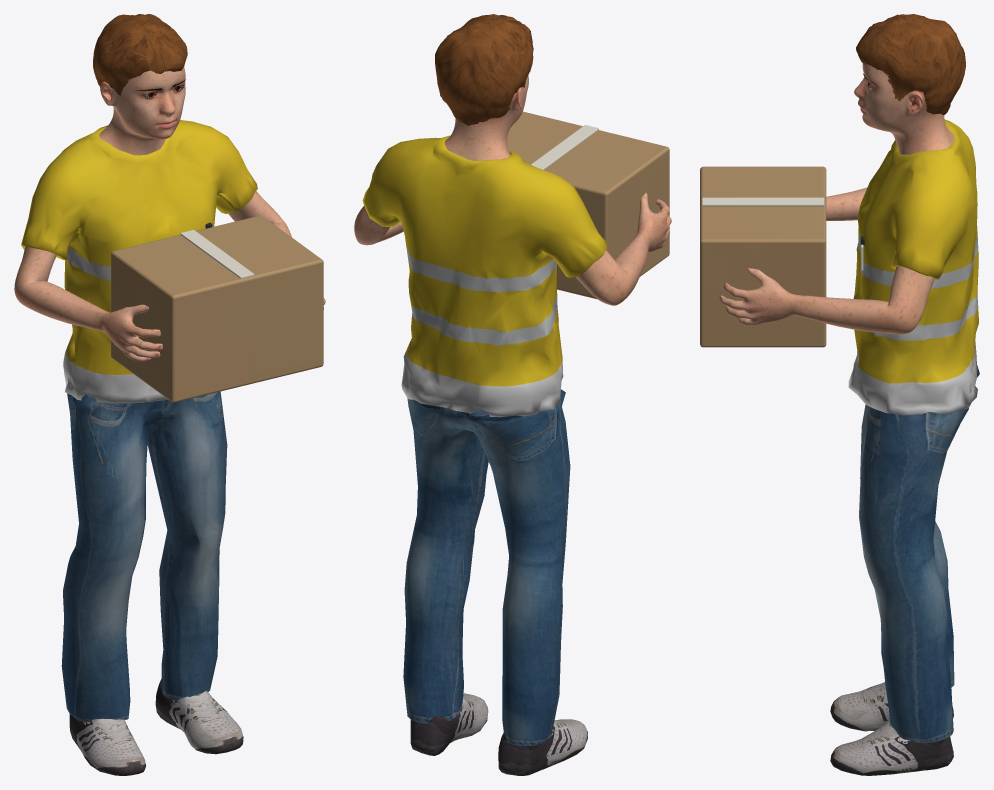
Rendered from premium-courier-owen.glb.
3 renders of one model, left to right at view 1: azimuth 30°, elevation 25°; view 2: azimuth 150°, elevation 25°; view 3: azimuth 270°, elevation 25°, orthographic.
Visible parts, largest first — view 1: male_casualsuit06, Small cardboard parcel, Owen | anatomical body, shoes05, short02, Parcel paper seam; view 2: male_casualsuit06, Small cardboard parcel, short02, Owen | anatomical body, shoes05, Parcel paper seam; view 3: male_casualsuit06, Small cardboard parcel, Owen | anatomical body, short02, shoes05, Parcel paper seam.
Boxes of the visible parts, x1,y1,x2,y2 form: male_casualsuit06: (21, 120, 257, 721); Small cardboard parcel: (111, 215, 323, 402); Owen | anatomical body: (14, 66, 325, 361); shoes05: (69, 679, 243, 775); short02: (93, 14, 187, 95); Parcel paper seam: (180, 230, 254, 278); male_casualsuit06: (362, 135, 607, 746); Small cardboard parcel: (507, 111, 669, 299); short02: (435, 14, 533, 125); Owen | anatomical body: (354, 74, 671, 305); shoes05: (410, 693, 587, 775); Parcel paper seam: (531, 125, 598, 169); male_casualsuit06: (848, 119, 979, 742); Small cardboard parcel: (700, 166, 826, 347); Owen | anatomical body: (719, 63, 954, 334); short02: (856, 14, 965, 114); shoes05: (830, 682, 953, 775); Parcel paper seam: (702, 197, 824, 206).
Bounding box in the file's own units: 0.6898 × 1.78 × 0.6227.
Materials: 14 (14 with a texture image).
